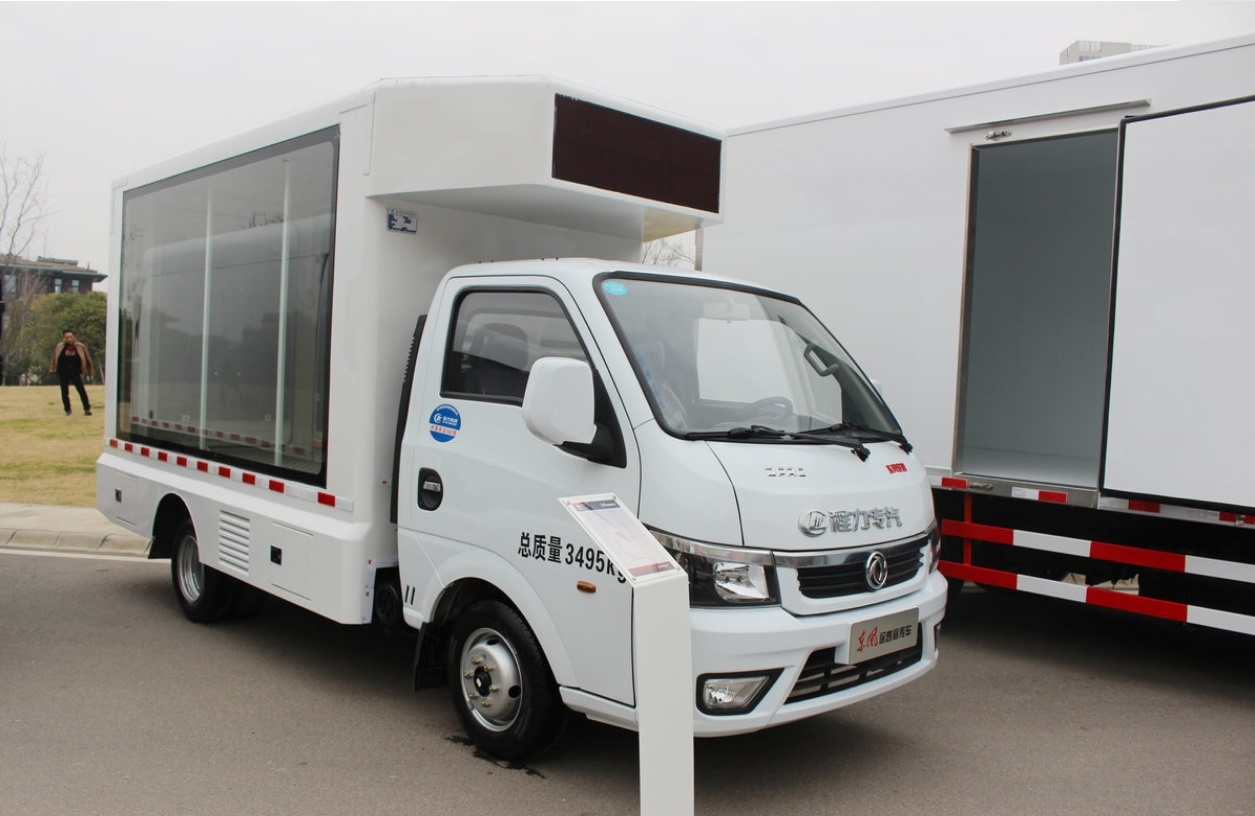truck: (79, 67, 977, 756)
